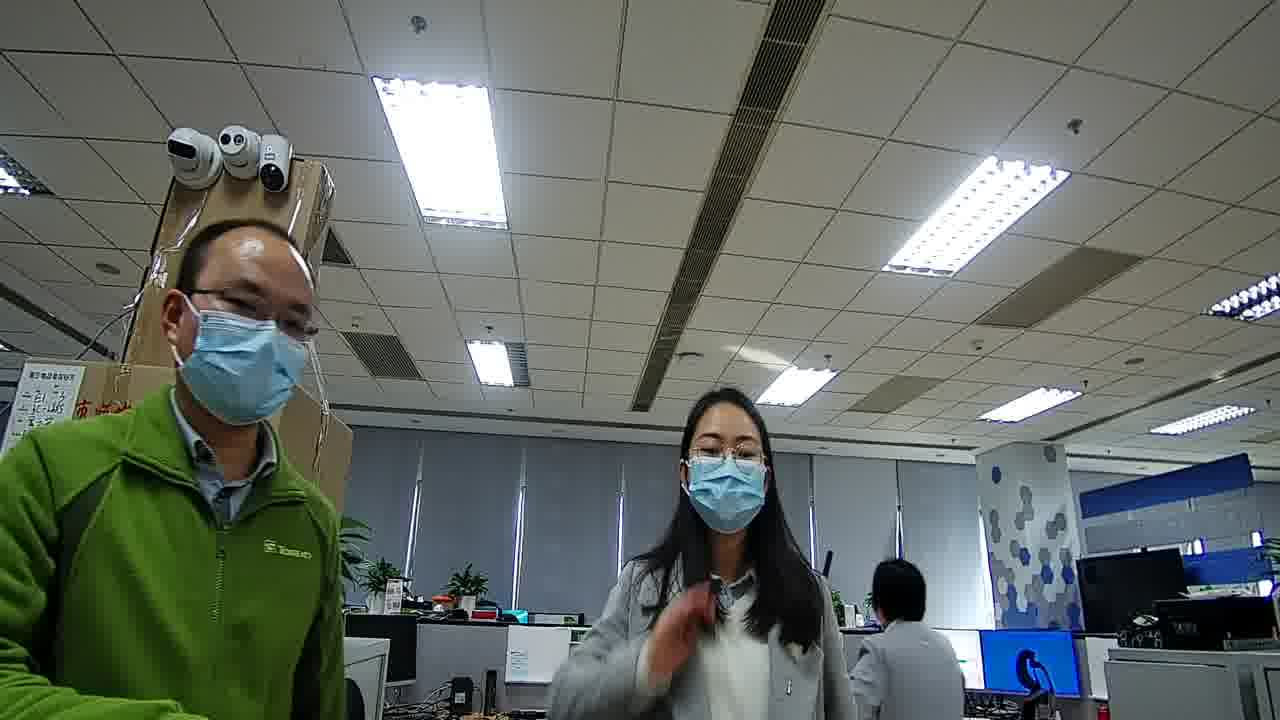face: (165, 248, 318, 428), (688, 406, 772, 530)
mask: (176, 317, 312, 431), (689, 463, 765, 531)
person: (14, 188, 380, 566), (646, 388, 831, 633), (854, 549, 959, 687)
